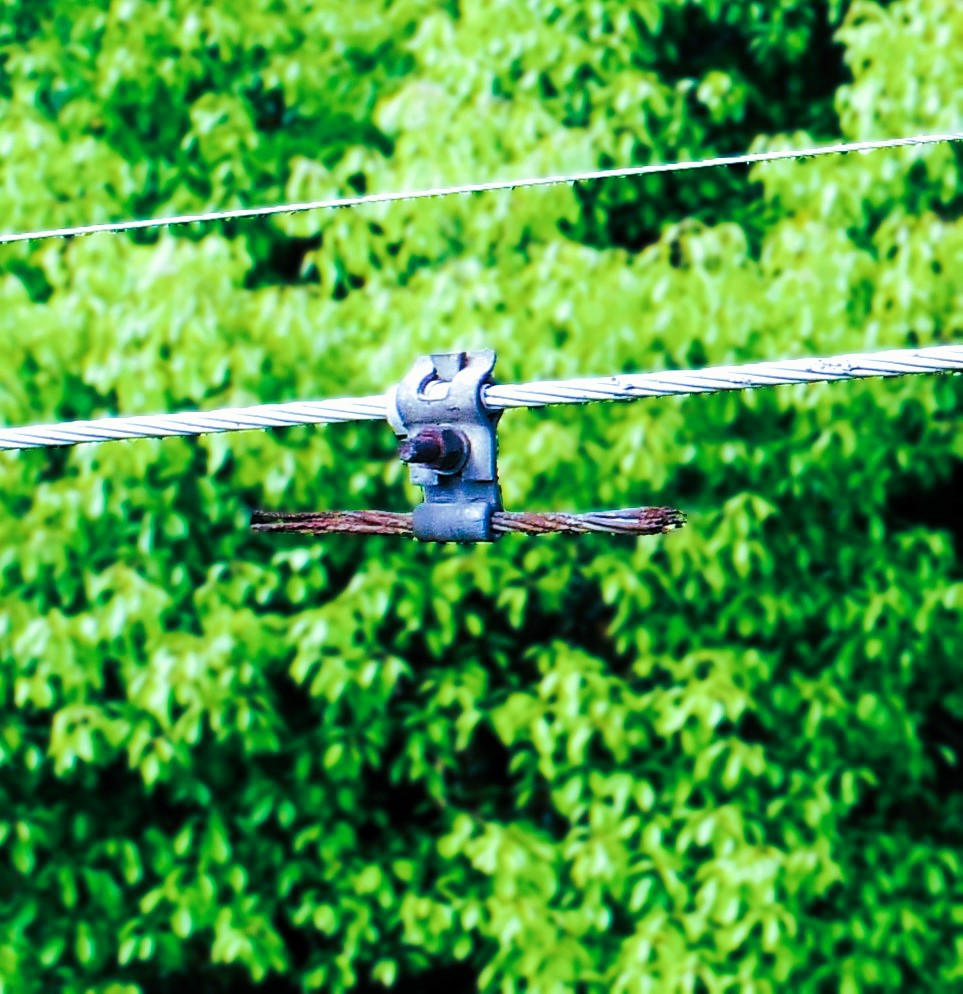Damage of shockproof hammer: (227, 333, 708, 560)
